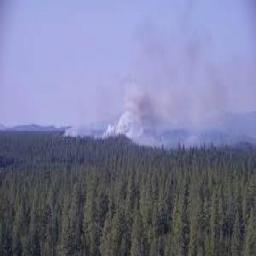Low smoke: (100, 79, 165, 146)
